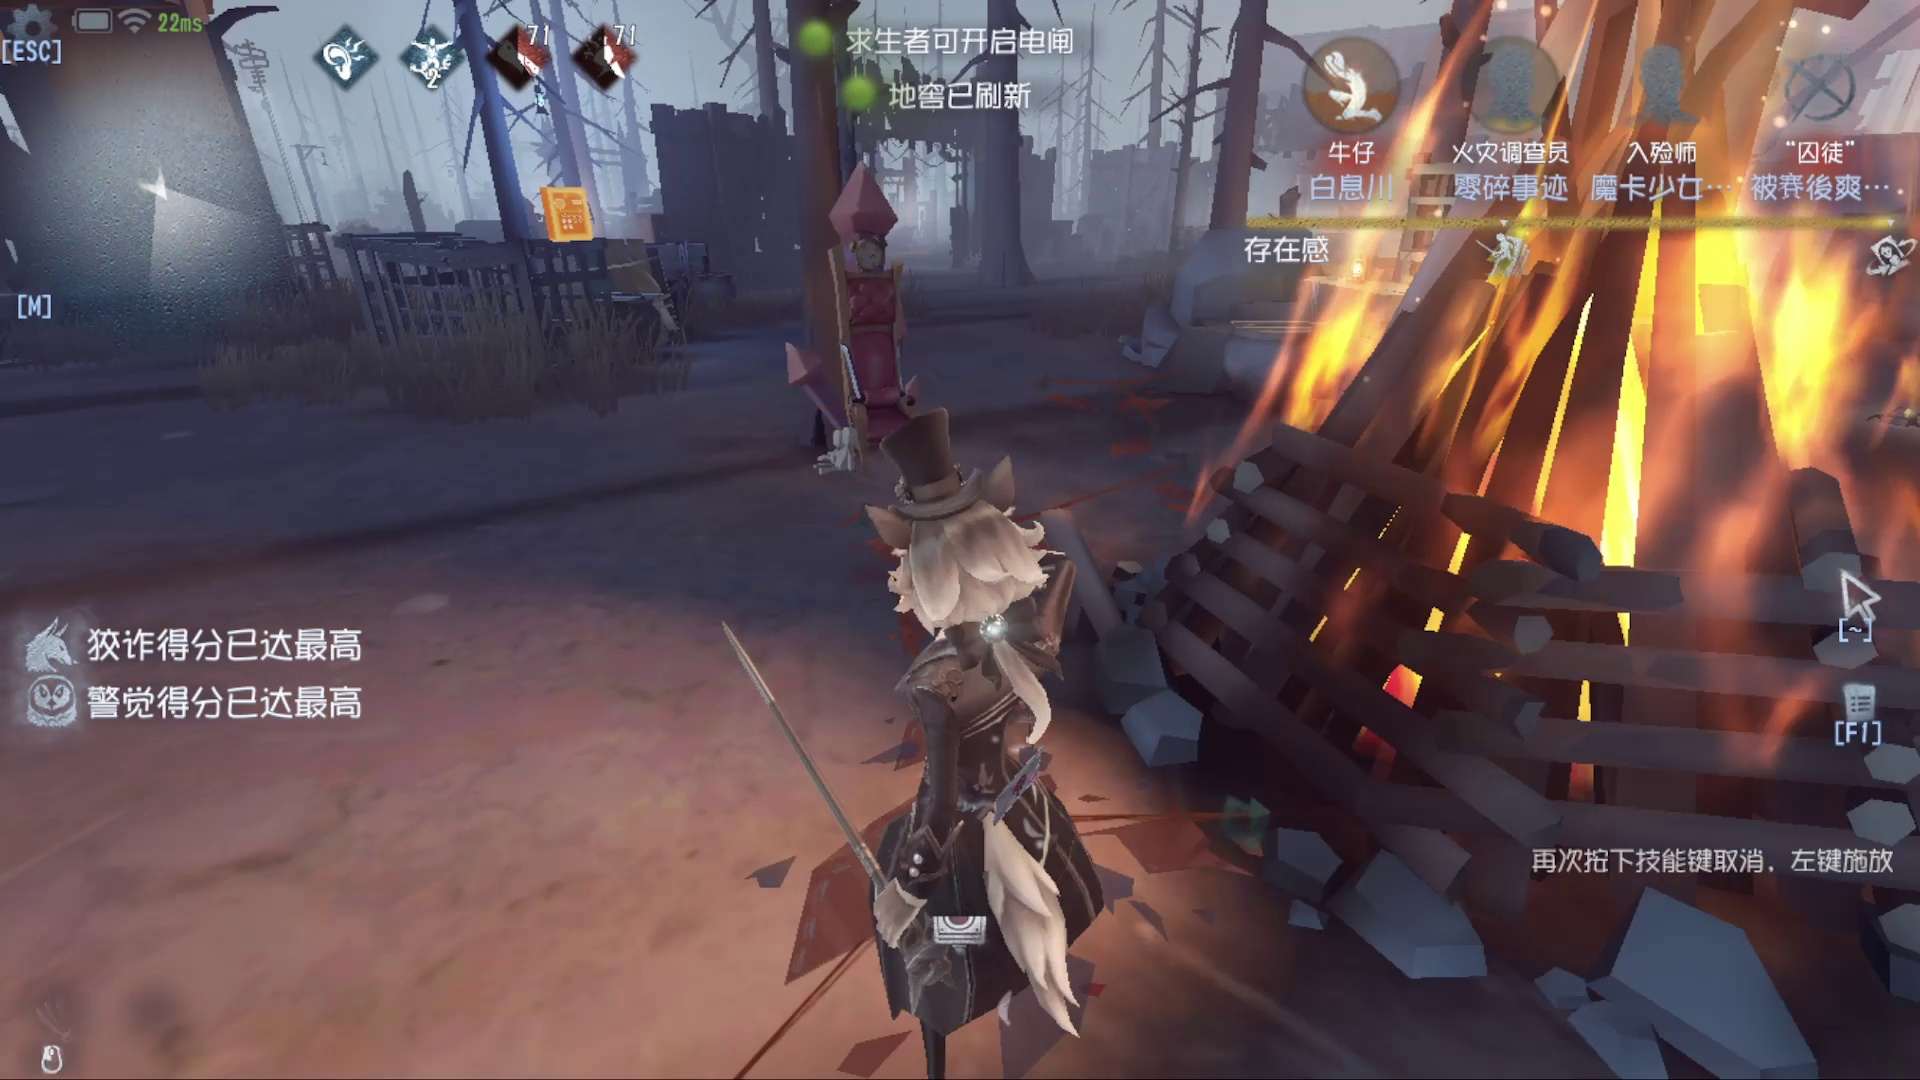木板: (576, 220, 700, 356)
狂欢之椅: (787, 171, 953, 472)
脚印: (1023, 330, 1160, 516)
